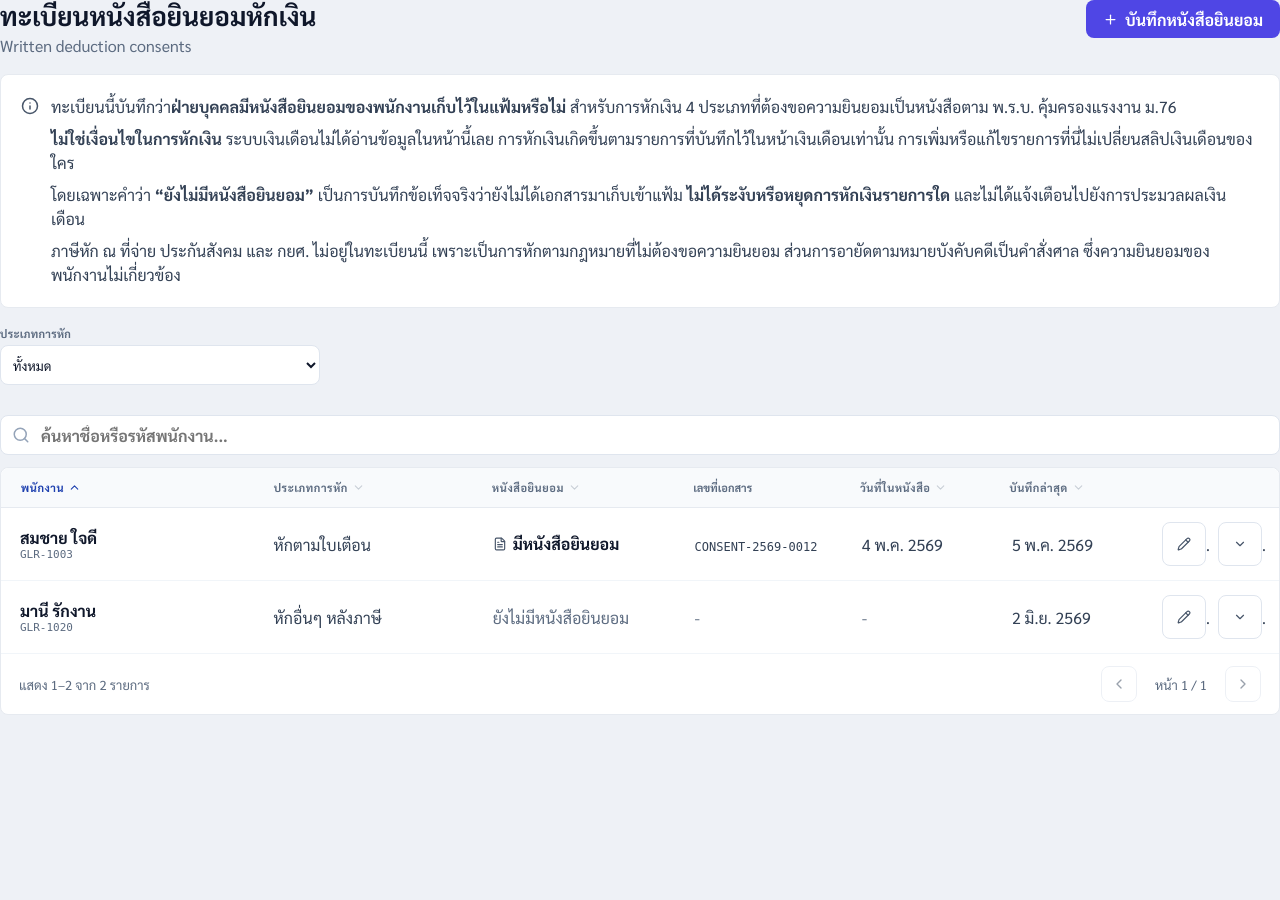
DeductionConsentsPage › write affordances › keeps the dialog open and shows the backend message when the write is refused
The image size is (1280, 900).
Expected: the text "สมชาย ใจดี" is shown, [20,527,97,548]
Click the button "บันทึกหนังสือยินยอม": x=1183, y=19 [1086,0,1279,38]
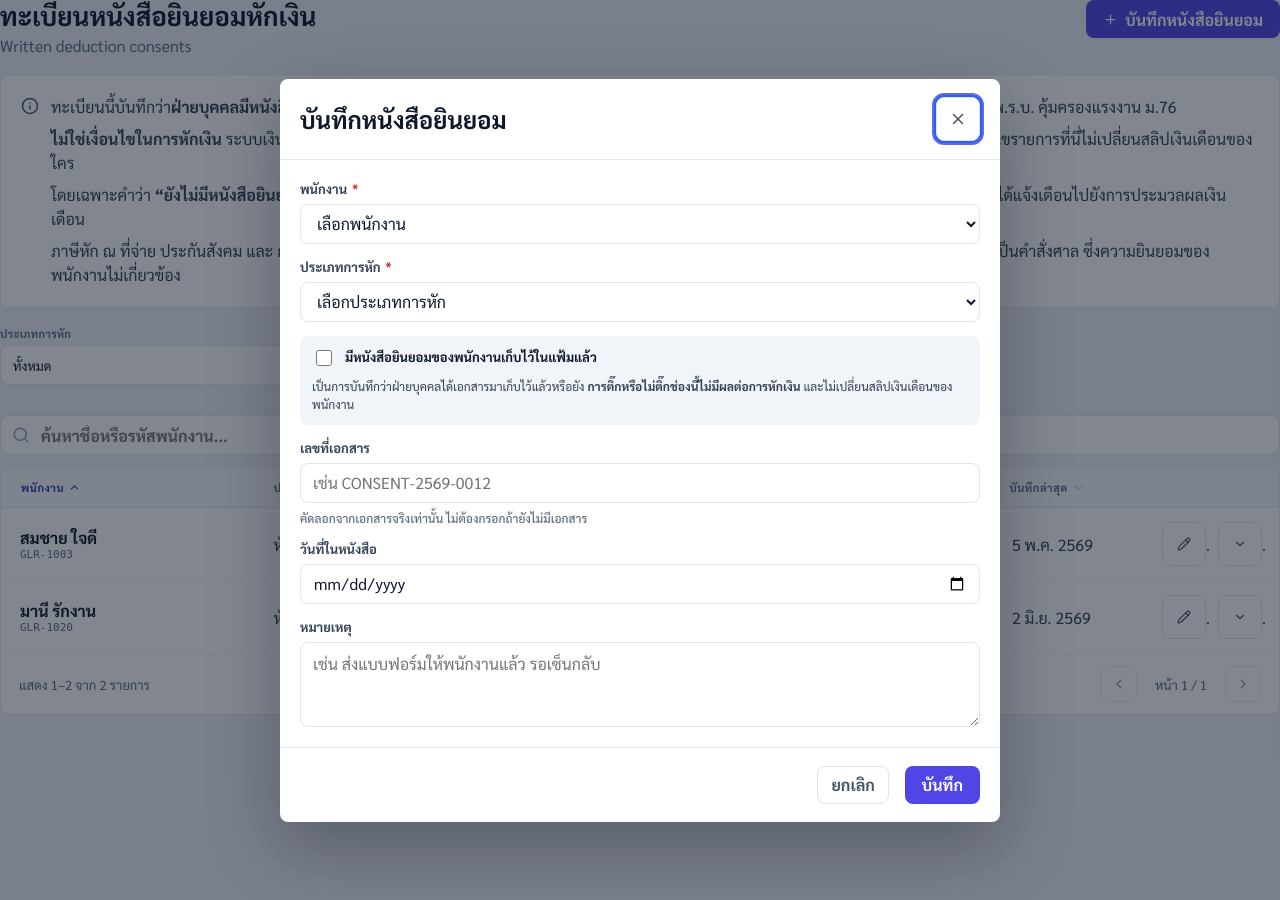
Select "มานี รักงาน (GLR-1020)" in the dropdown labelled "พนักงาน": x=640, y=224 [300,204,980,244]
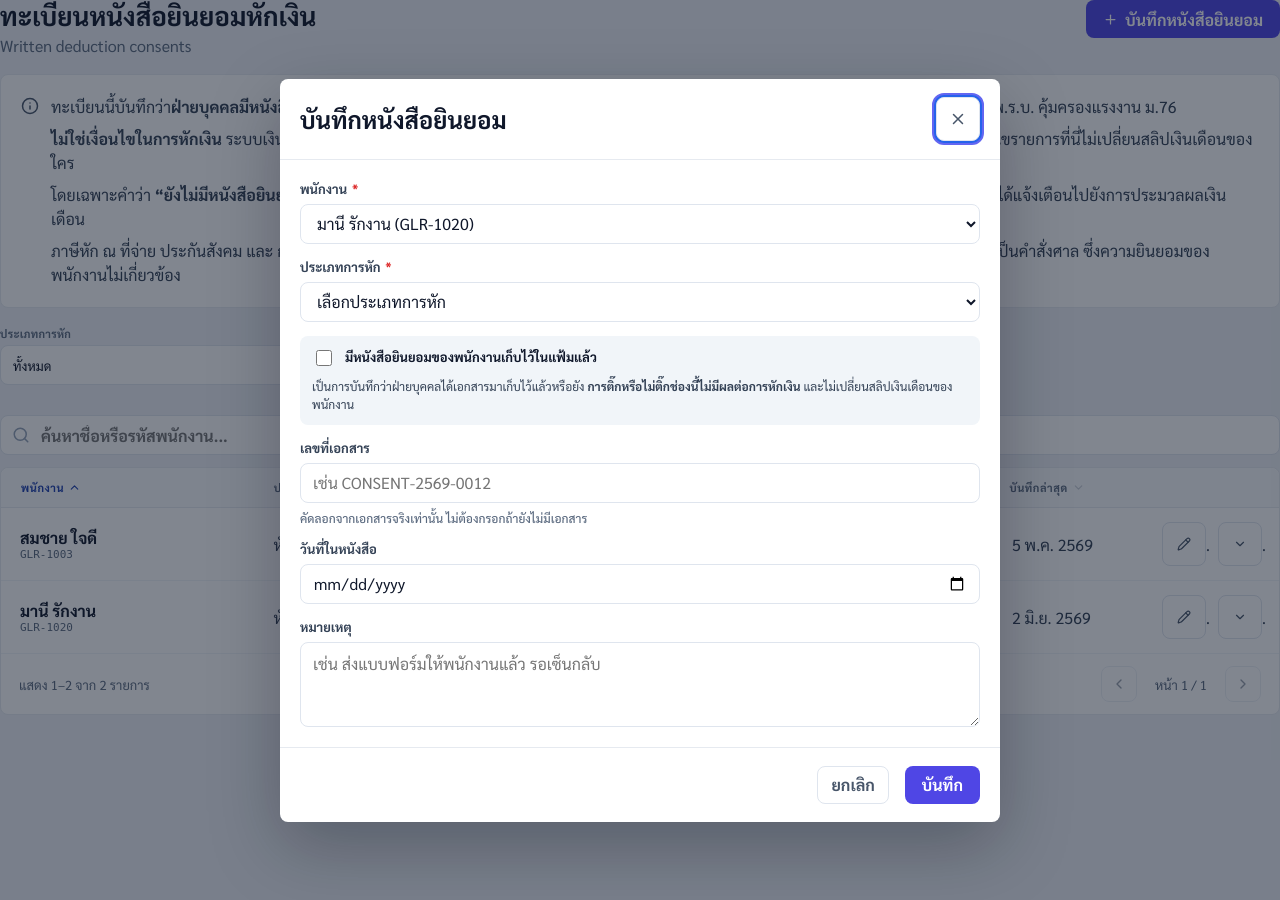
Select "ลูกค้าคืนสินค้า" in the dropdown labelled "ประเภทการหัก": x=640, y=302 [300,282,980,322]
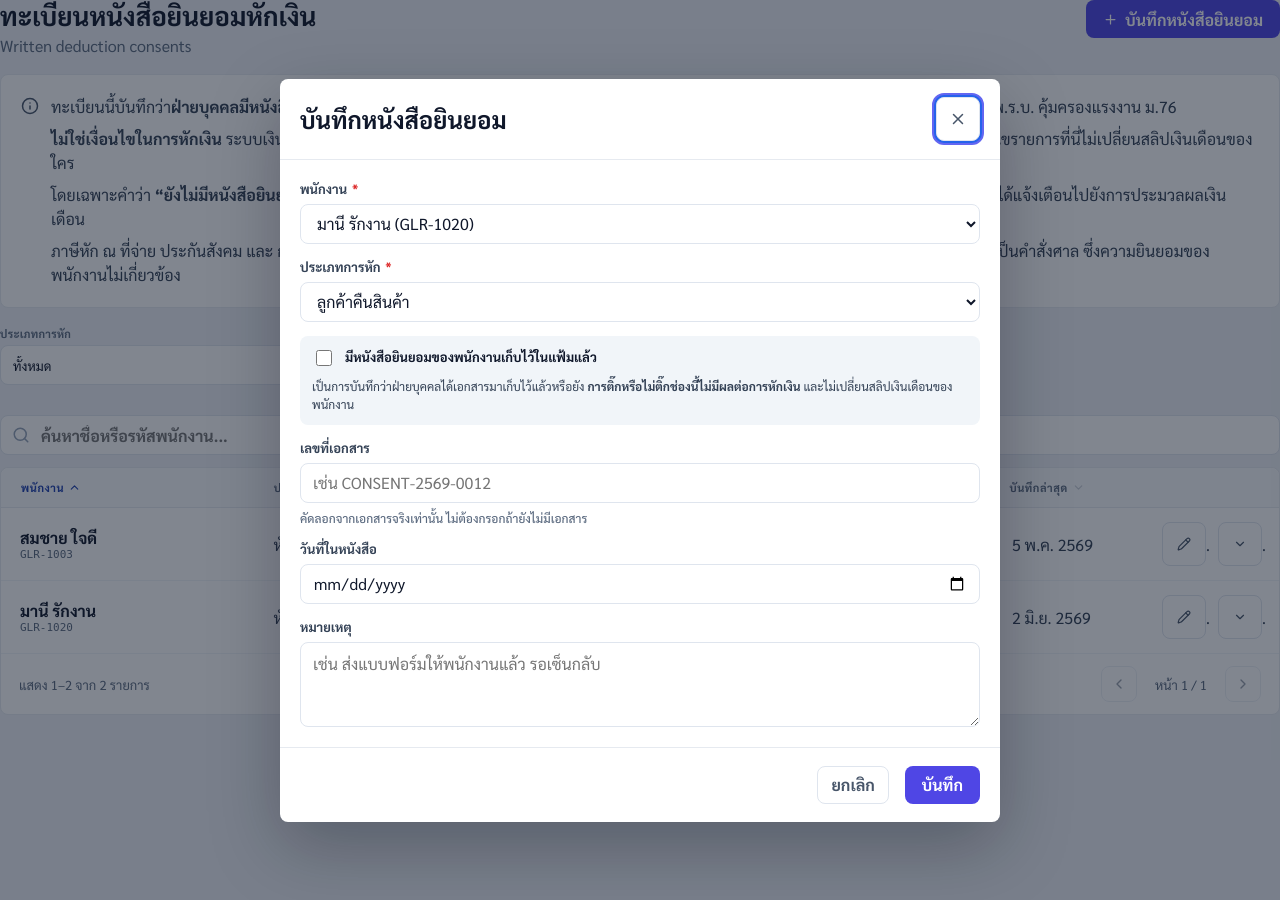
Click the button "บันทึก": x=942, y=784 [905,766,980,804]
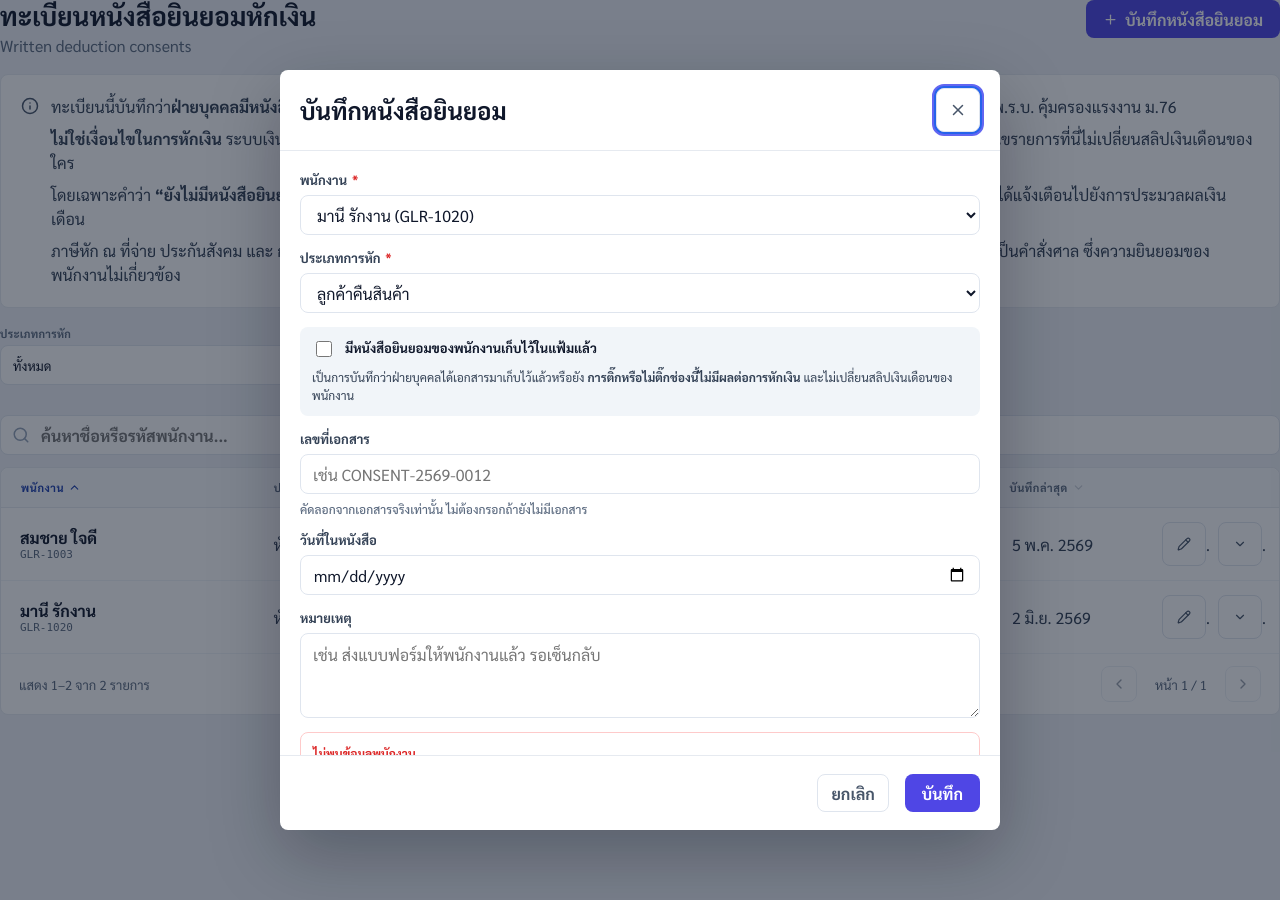
Expected: the dialog is shown, [280,70,1000,830]
Expected: the text "ไม่พบข้อมูลพนักงาน" is shown, [313,745,416,755]
